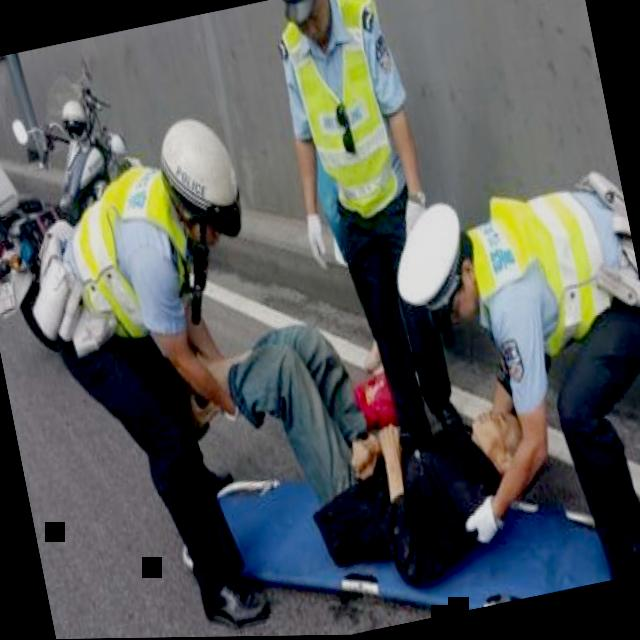Fall-Detected: (163, 250, 565, 638)
